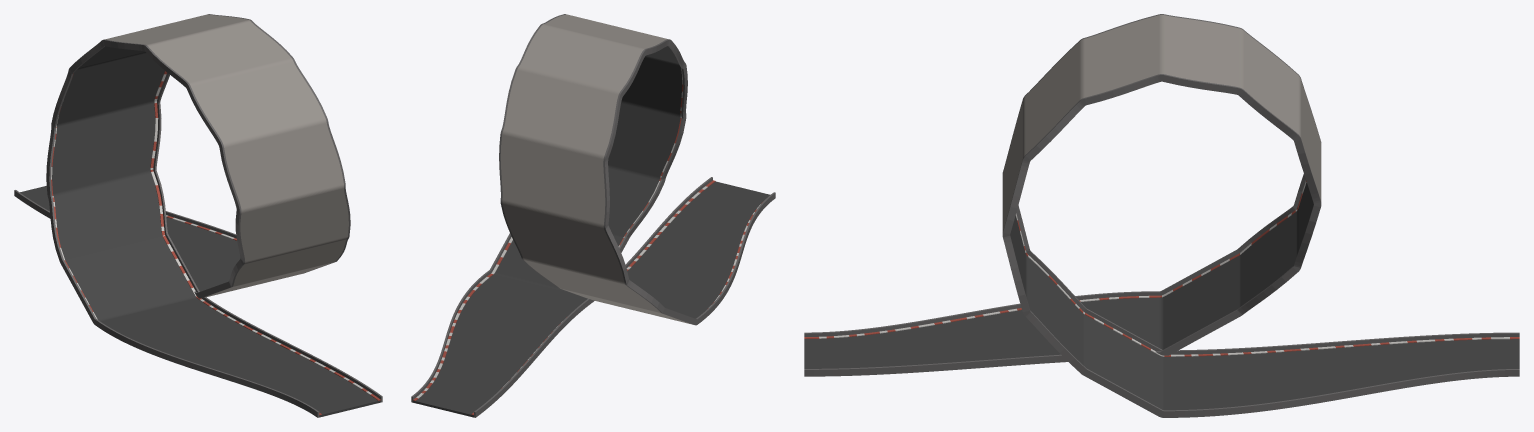
The model's file is tp-loop.glb.
3 renders of one model, left to right at view 1: azimuth 30°, elevation 25°; view 2: azimuth 150°, elevation 25°; view 3: azimuth 270°, elevation 25°, orthographic. The views are drawn at different scales.
Visible parts, largest first — view 1: tp-loop; view 2: tp-loop; view 3: tp-loop.
Boxes of the visible parts, x1,y1,x2,y2 form: tp-loop: (14,14,382,417); tp-loop: (411,14,775,417); tp-loop: (804,14,1519,417).
Size of what is drawn, in the model's own units: 49.57 by 60.38 by 125.
1 material, 1 textured.
